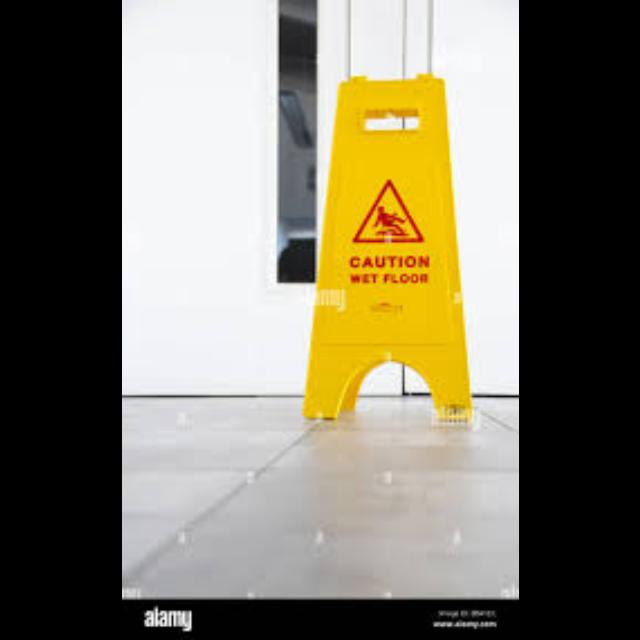tron truot: (305, 79, 469, 418)
